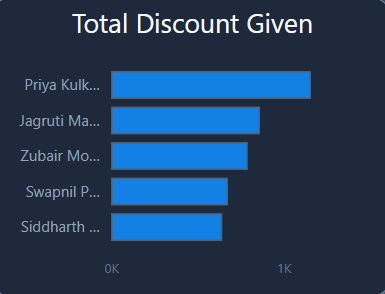

Layout of this report page (visuals, bound fields, positions):
{"tool":"powerbi","page":{"name":"Tooltip_Customers","canvas":[320,240],"ordinal":3},"visuals":[{"type":"barChart","title":"Total Discount Given","fields":{"Y":["cab_rides_final.Total Discount"],"Category":["cab_rides_final.customer_name"]},"box":[0,0,320,240],"z":0}]}

Visuals, with their boxes in screenshot pixels (x1, y1, x2, y2), scaled from the page's 320x240 canvas onto the 385x294 screenshot:
"Total Discount Given" barChart: (left=0, top=0, right=384, bottom=293)
